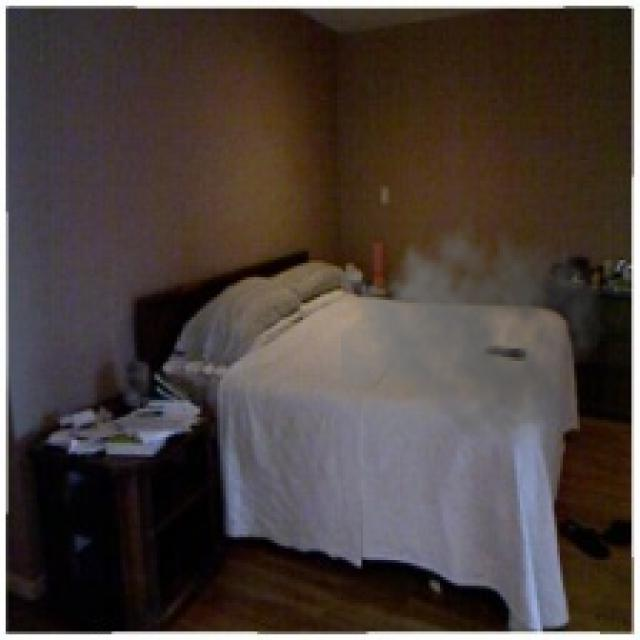smoke: (340, 203, 606, 448)
